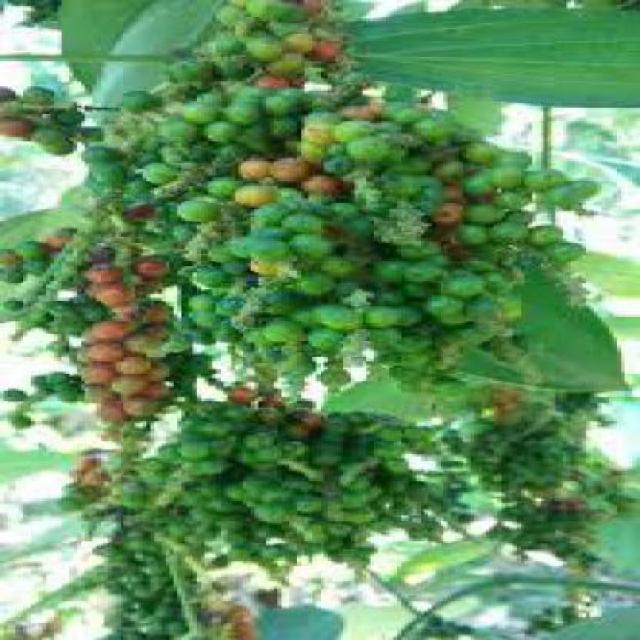RIPE: (16, 265, 193, 429)
